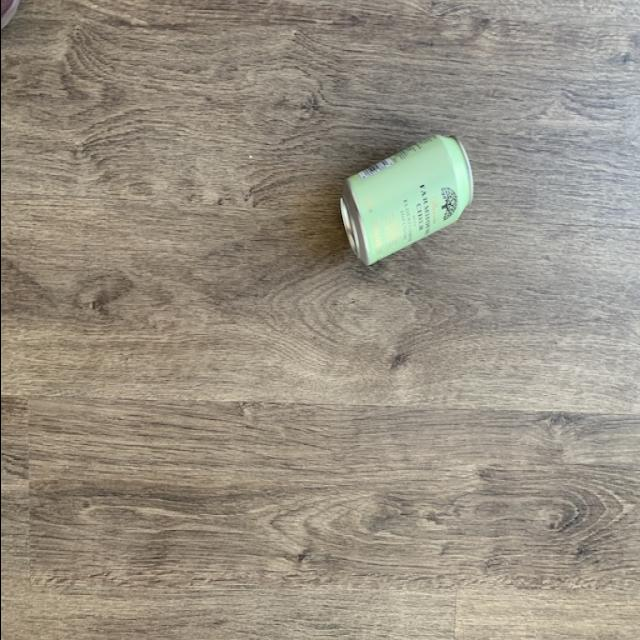Aluminum Can: (328, 124, 481, 285)
